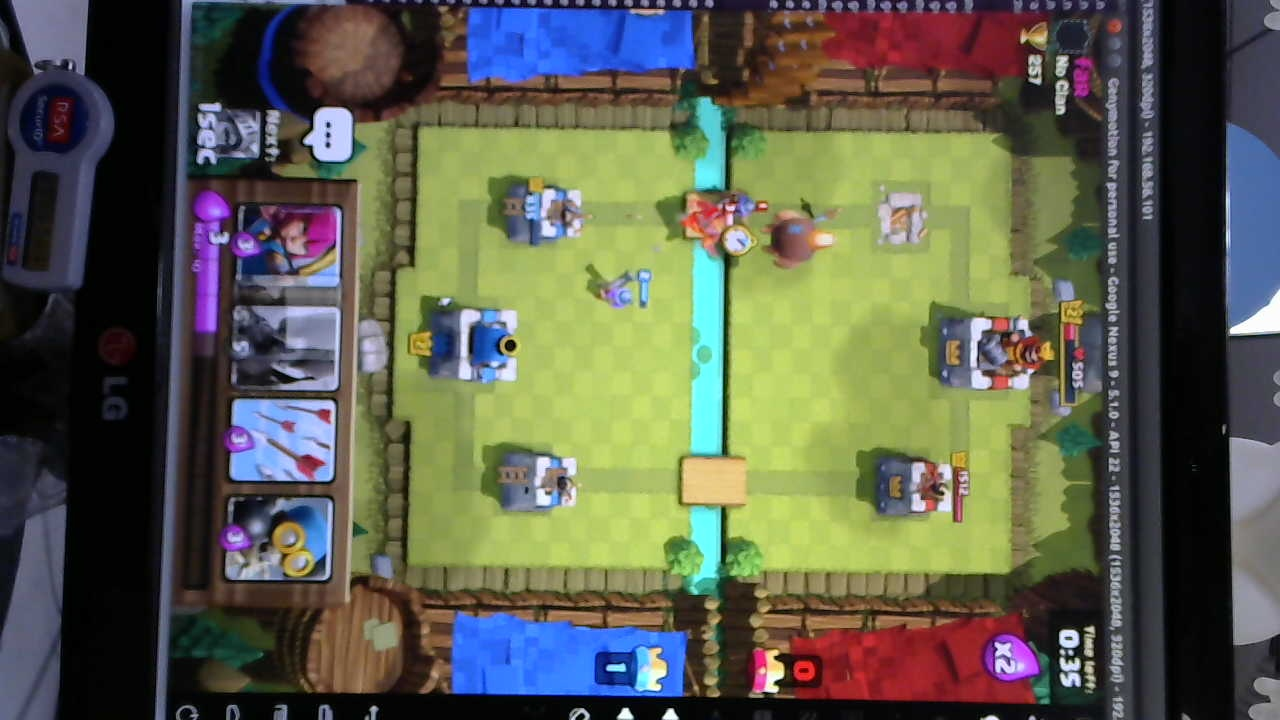arena: (496, 446, 583, 516), (510, 181, 588, 245)
darena: (874, 188, 926, 243)
earena: (875, 453, 955, 522)
eking: (933, 315, 1038, 392)
giant: (774, 207, 827, 273)
king: (432, 300, 525, 386)
knight: (679, 199, 729, 251)
musketeer: (600, 272, 640, 311), (720, 192, 766, 223)
